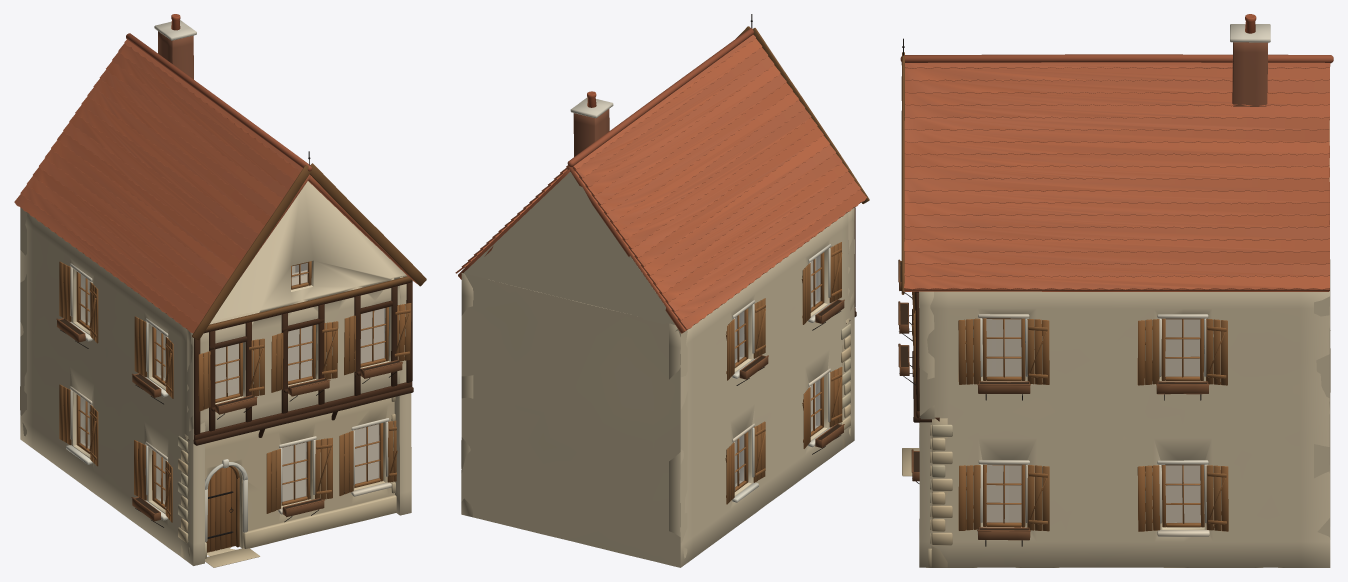
File: StraightEnd_Outer2.glb
3 views of the same model, side by side, from view 1: azimuth 30°, elevation 25°; view 2: azimuth 150°, elevation 25°; view 3: azimuth 270°, elevation 25° (orthographic). The views are drawn at different scales.
Parts seen in each view (by area): view 1: Sammel Putz, Sammel Stein, Sammel Holz, Sammel Quader, Glas, Sammel Putz innen, Sammel Ziegel; view 2: Sammel Putz, Sammel Stein, Sammel Holz, Glas, Sammel Ziegel, Sammel Putz innen; view 3: Sammel Stein, Sammel Putz, Sammel Holz, Sammel Putz innen, Glas, Sammel Ziegel.
Part boxes in pixels (x1,y1,x2,y2): Sammel Putz: (20, 14, 411, 565); Sammel Stein: (14, 33, 416, 567); Sammel Holz: (56, 163, 426, 552); Sammel Quader: (181, 398, 394, 559); Glas: (80, 263, 385, 504); Sammel Putz innen: (84, 263, 384, 501); Sammel Ziegel: (158, 31, 193, 79); Sammel Putz: (461, 91, 854, 567); Sammel Stein: (455, 28, 866, 436); Sammel Holz: (725, 26, 869, 504); Glas: (735, 255, 820, 486); Sammel Ziegel: (573, 109, 609, 156); Sammel Putz innen: (735, 258, 816, 483); Sammel Stein: (900, 54, 1333, 566); Sammel Putz: (900, 14, 1330, 567); Sammel Holz: (898, 52, 1228, 540); Sammel Putz innen: (986, 319, 1203, 522); Glas: (986, 319, 1200, 522); Sammel Ziegel: (1232, 42, 1267, 106).
Size of the model in its own units: 6.83 by 11 by 8.75.
